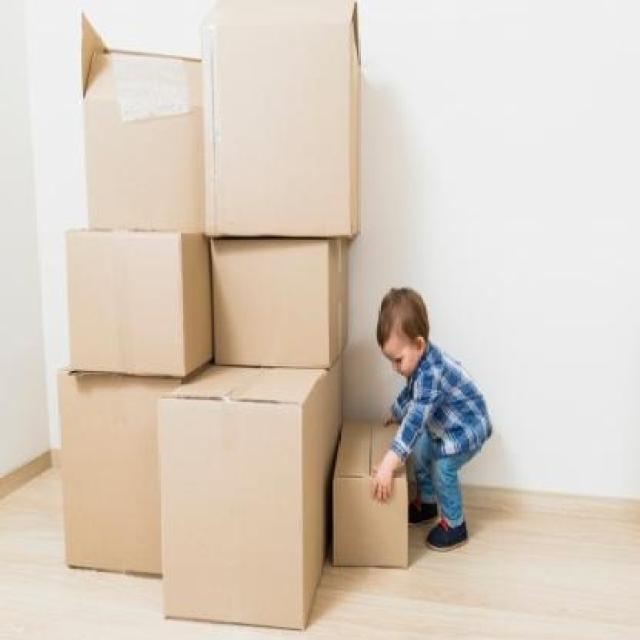box: (161, 364, 343, 640), (203, 2, 359, 245), (70, 19, 205, 231), (58, 227, 207, 384), (53, 377, 164, 581), (206, 243, 357, 376), (326, 404, 416, 578)
